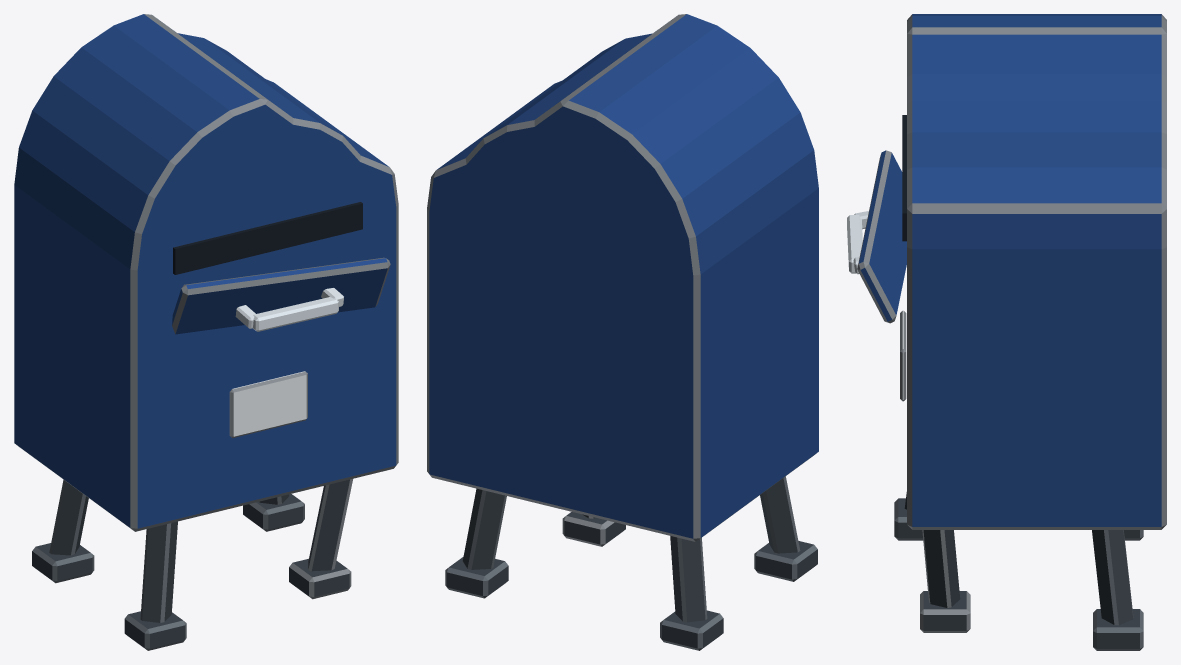
Rendered from mailbox_combat_dented.fbx.
3 views of the same model, side by side, from view 1: azimuth 30°, elevation 25°; view 2: azimuth 150°, elevation 25°; view 3: azimuth 270°, elevation 25° (orthographic). The views are drawn at different scales.
Parts seen in each view (by area): view 1: Mailbox_Damaged; view 2: Mailbox_Damaged; view 3: Mailbox_Damaged.
Part boxes in pixels (box(x1,y1,x2,y2)): Mailbox_Damaged: box(14, 14, 398, 650); Mailbox_Damaged: box(427, 14, 818, 650); Mailbox_Damaged: box(847, 14, 1166, 650).
Size of the model in its own units: 260 by 480 by 250.
